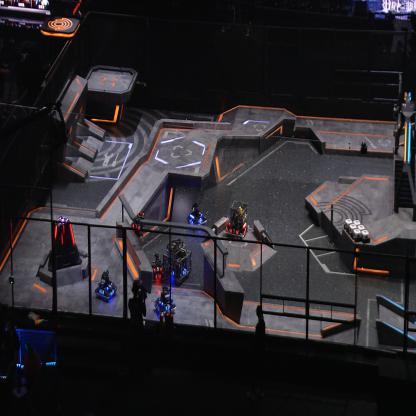car: (163, 239, 192, 285), (222, 197, 249, 241), (95, 269, 117, 302), (155, 284, 176, 317), (186, 201, 207, 230), (150, 252, 166, 282)
